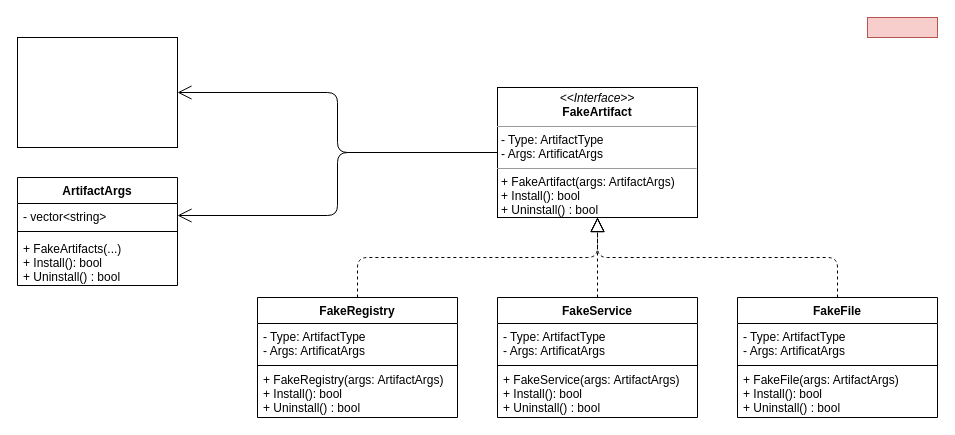
Image size: 955x435. Some labels were removed from this diagram. Each missing label, with the centre of its shape:
<<Enumeration>> AtrifacteType Registry Service File Process: (97,92)
Singleton: (902,27)
